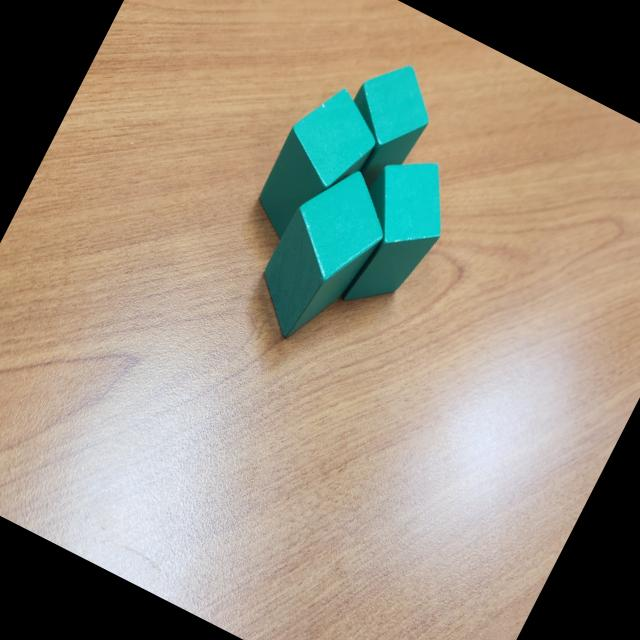green: (240, 152, 406, 358), (310, 138, 468, 326), (244, 73, 394, 260), (319, 48, 449, 202)
